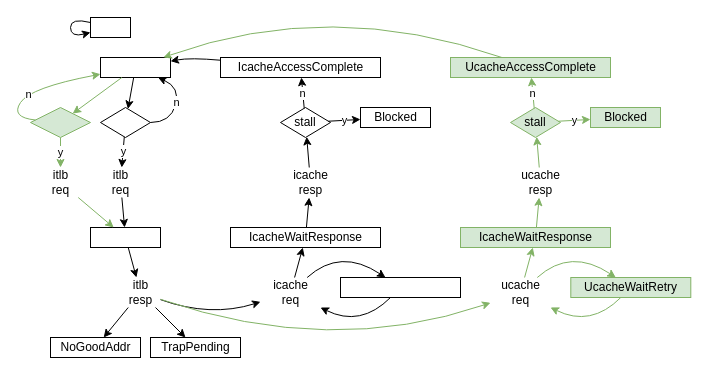
The diagram is 709 pixels wide and 375 high, and some of its shapes have lost their labels. The shapes that lost their labels are listed below. From the top down, each one's centre as x and y in pixels, then its label:
At (110,27): "Idle".
At (135,67): "Running".
At (60,122): "ufetch".
At (125,122): "fetch".
At (125,237): "ItlbWait".
At (400,287): "IcacheWaitRetry".
